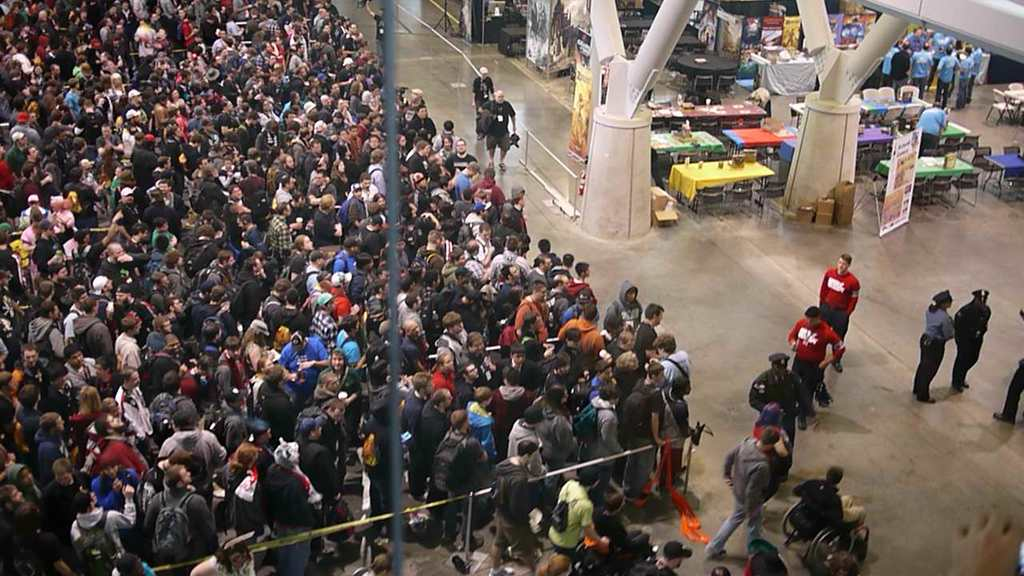Person: (0, 0, 1024, 575)
